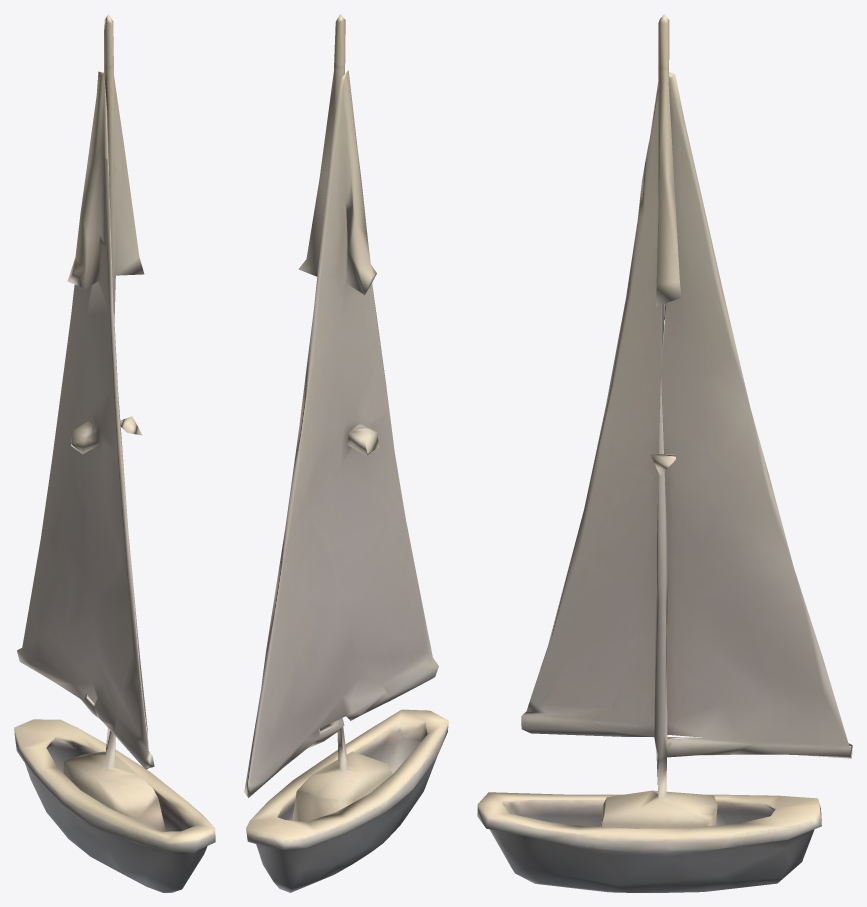
File: sail.glb
3 views of the same model, side by side, from view 1: azimuth 30°, elevation 25°; view 2: azimuth 150°, elevation 25°; view 3: azimuth 270°, elevation 25° (orthographic). The views are drawn at different scales.
Visible parts, largest first — view 1: tripo_node_3b8f7e10-2902-46c2-8974-21b34adda612; view 2: tripo_node_3b8f7e10-2902-46c2-8974-21b34adda612; view 3: tripo_node_3b8f7e10-2902-46c2-8974-21b34adda612.
Part boxes in pixels (x1,y1,x2,y2): tripo_node_3b8f7e10-2902-46c2-8974-21b34adda612: (14,14,215,892); tripo_node_3b8f7e10-2902-46c2-8974-21b34adda612: (244,14,448,892); tripo_node_3b8f7e10-2902-46c2-8974-21b34adda612: (477,14,852,892).
Size of the model in its own units: 2.6 by 23 by 9.
1 material, 1 textured.
